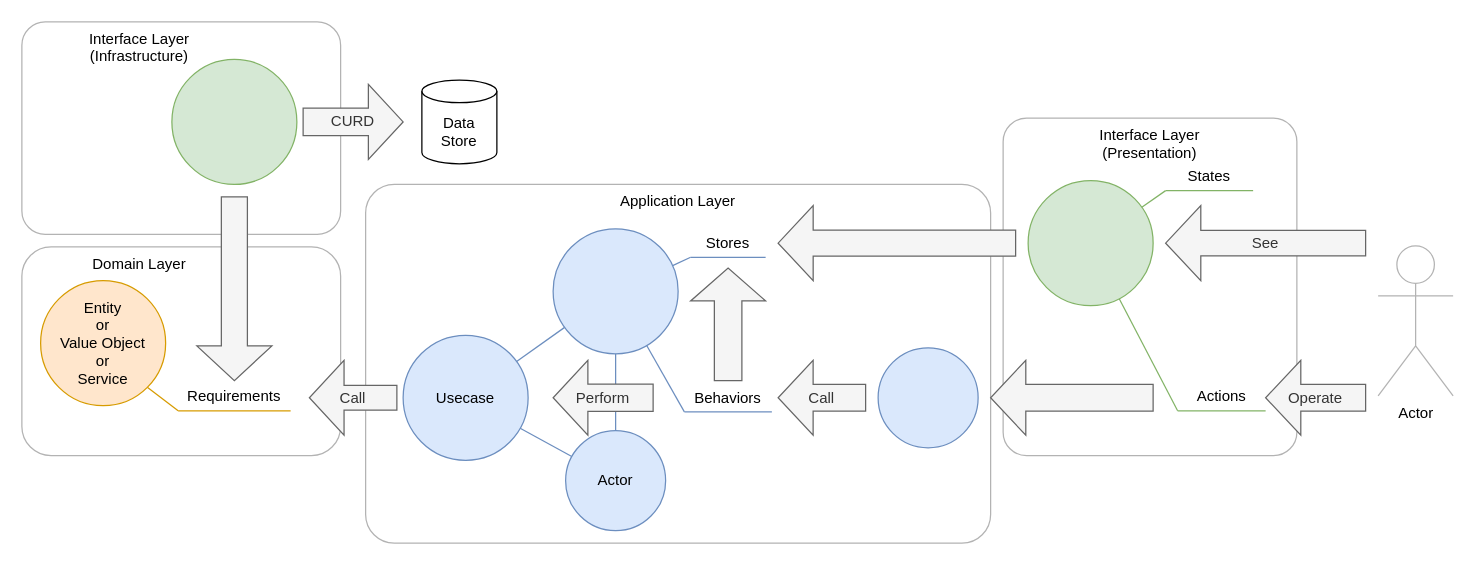
This 1475x565 diagram has some shape labels left out. The centre of each missing label's shape, as x and y in pixels:
Commit: the point at 727,324
Dispatch: the point at 1071,397
Dispatcher: the point at 927,397
Injection: the point at 234,288
Observe: the point at 896,242
Performer: the point at 615,291
Repository: the point at 234,121
View: the point at 1090,242
